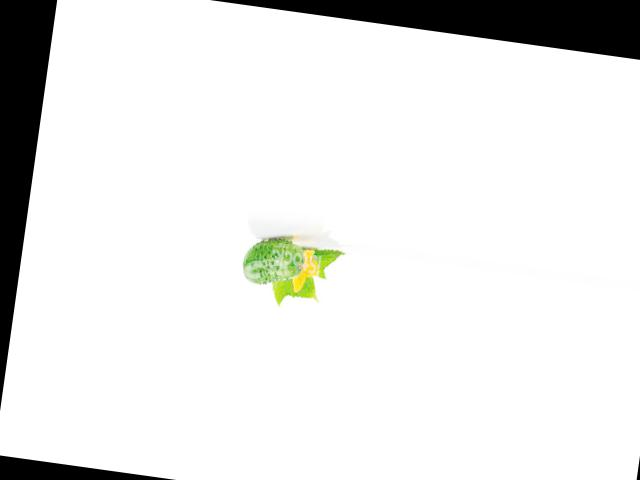cucumber: (239, 234, 305, 289)
